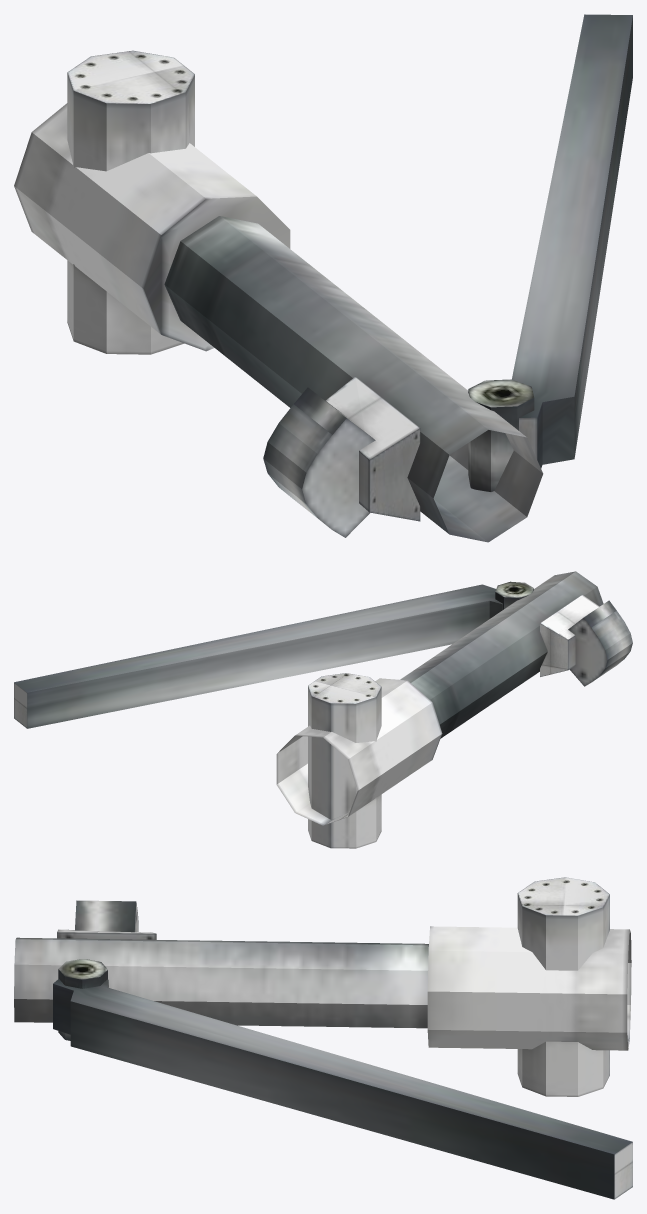
File: trainAv.fbx
3 views of the same model, one above another, from view 1: azimuth 30°, elevation 25°; view 2: azimuth 150°, elevation 25°; view 3: azimuth 270°, elevation 25° (orthographic). The views are drawn at different scales.
Parts seen in each view (by area): view 1: ShapeIndexedFaceSet; view 2: ShapeIndexedFaceSet; view 3: ShapeIndexedFaceSet.
Part boxes in pixels (box(x1,y1,x2,y2)): ShapeIndexedFaceSet: box(14, 14, 632, 542); ShapeIndexedFaceSet: box(14, 571, 632, 848); ShapeIndexedFaceSet: box(14, 877, 632, 1199).
Size of the model in its own units: 1.17 by 0.4003 by 1.24.
